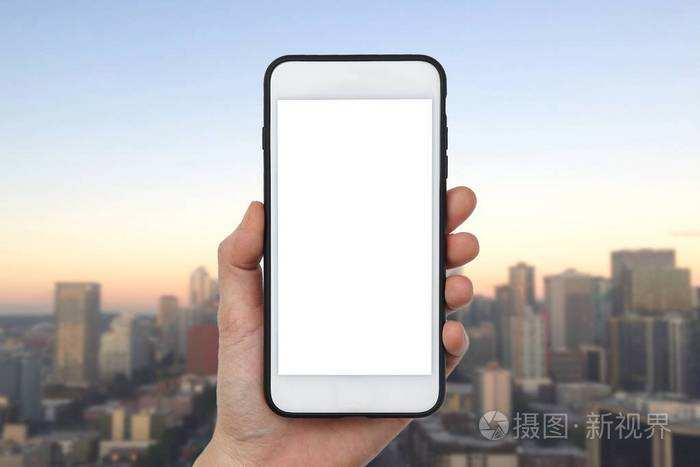phone: (196, 49, 493, 451)
